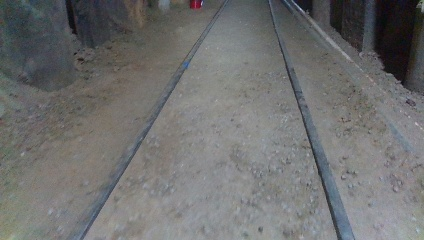fire_extinguisher: (188, 0, 201, 11)
